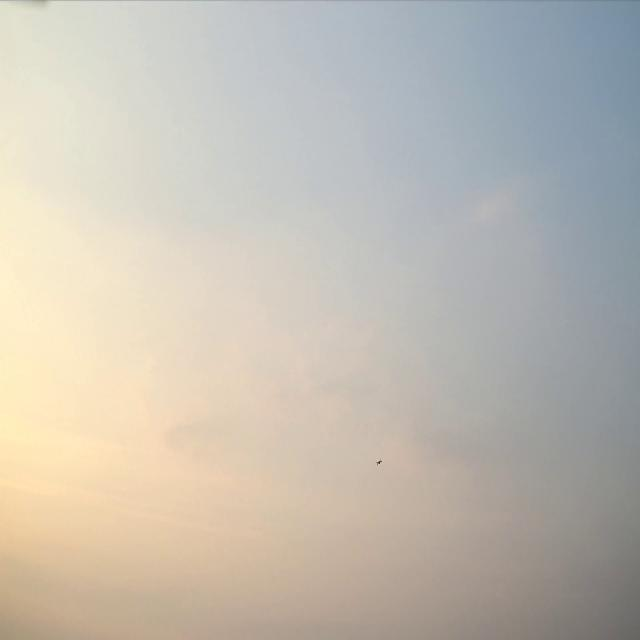drone: (376, 458, 383, 465)
